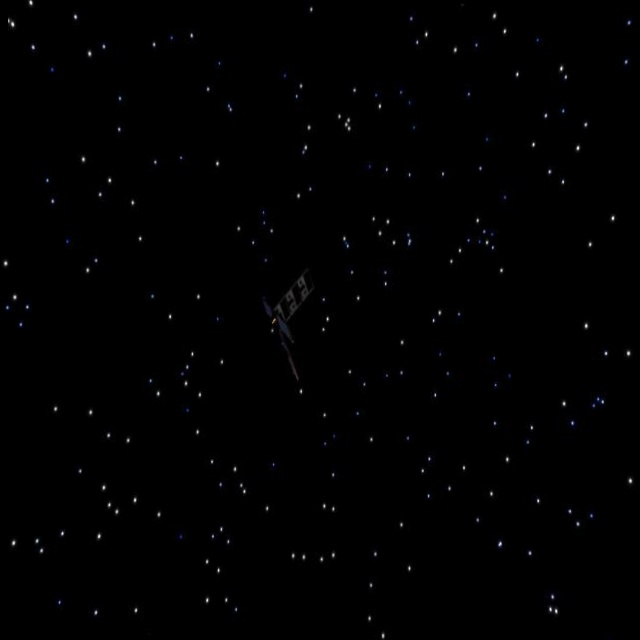medium_debris: (250, 271, 311, 399)
